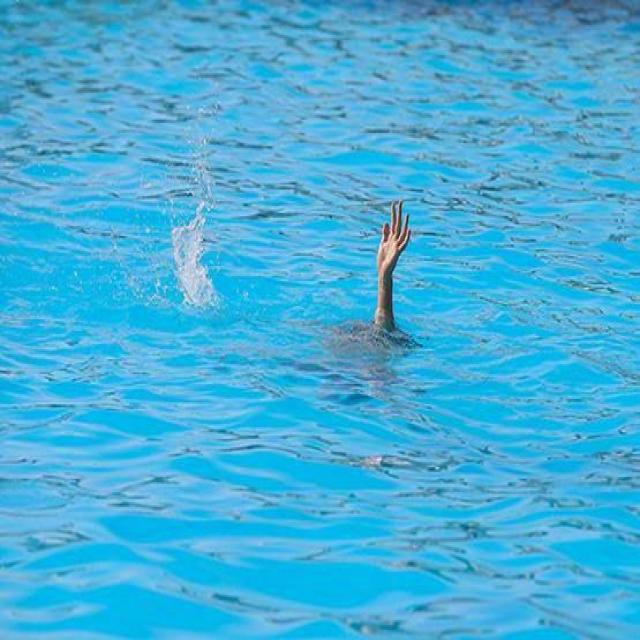Drowning: (334, 178, 424, 361)
